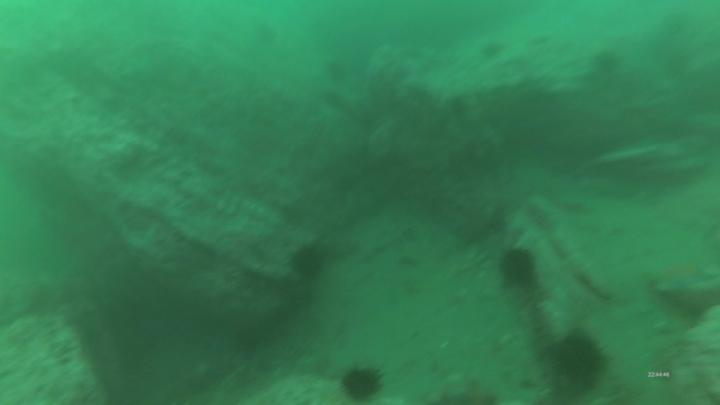echinus: (554, 329, 610, 401), (498, 245, 542, 295), (343, 361, 389, 405), (288, 240, 330, 282), (587, 49, 622, 79), (254, 18, 279, 48), (323, 59, 348, 86), (481, 37, 510, 60)
